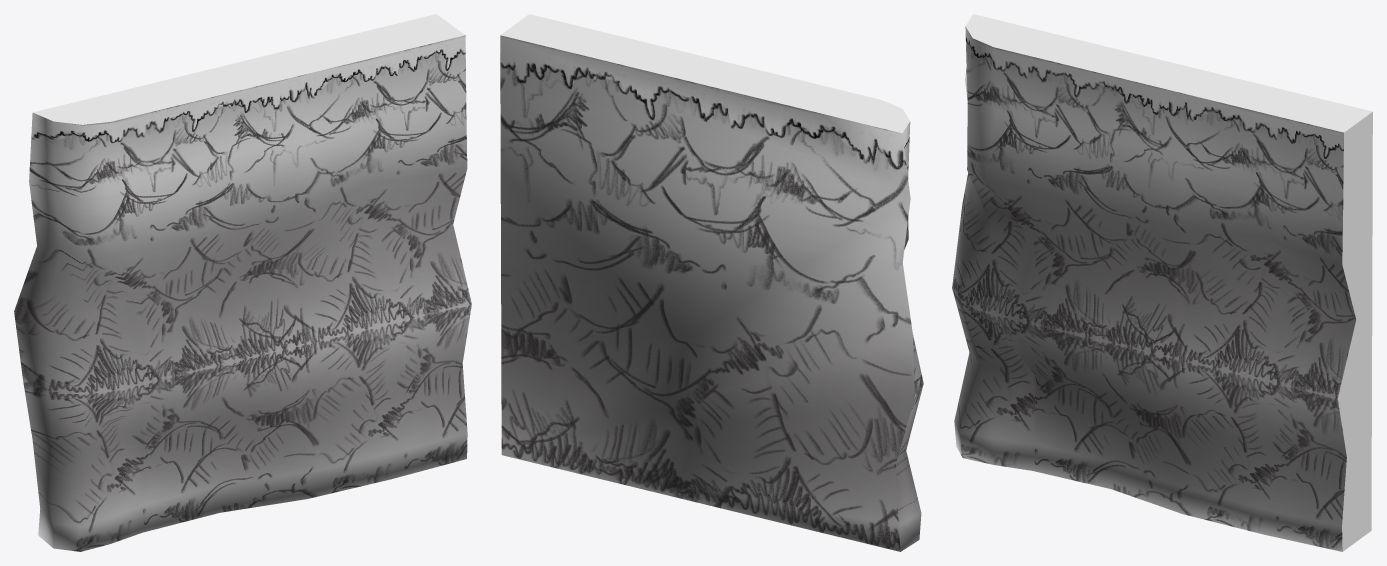
File: 16x2x16_CornerL.fbx
The picture shows the model from 3 angles, left to right: view 1: azimuth 30°, elevation 25°; view 2: azimuth 150°, elevation 25°; view 3: azimuth 330°, elevation 25°; orthographic projection.
Visible parts, largest first — view 1: 16x2x16_CornerL; view 2: 16x2x16_CornerL; view 3: 16x2x16_CornerL.
Boxes of the visible parts, x1,y1,x2,y2 form: 16x2x16_CornerL: [14, 14, 471, 551]; 16x2x16_CornerL: [500, 14, 923, 551]; 16x2x16_CornerL: [952, 14, 1372, 551].
Size of the model in its own units: 1658 by 1600 by 270.
